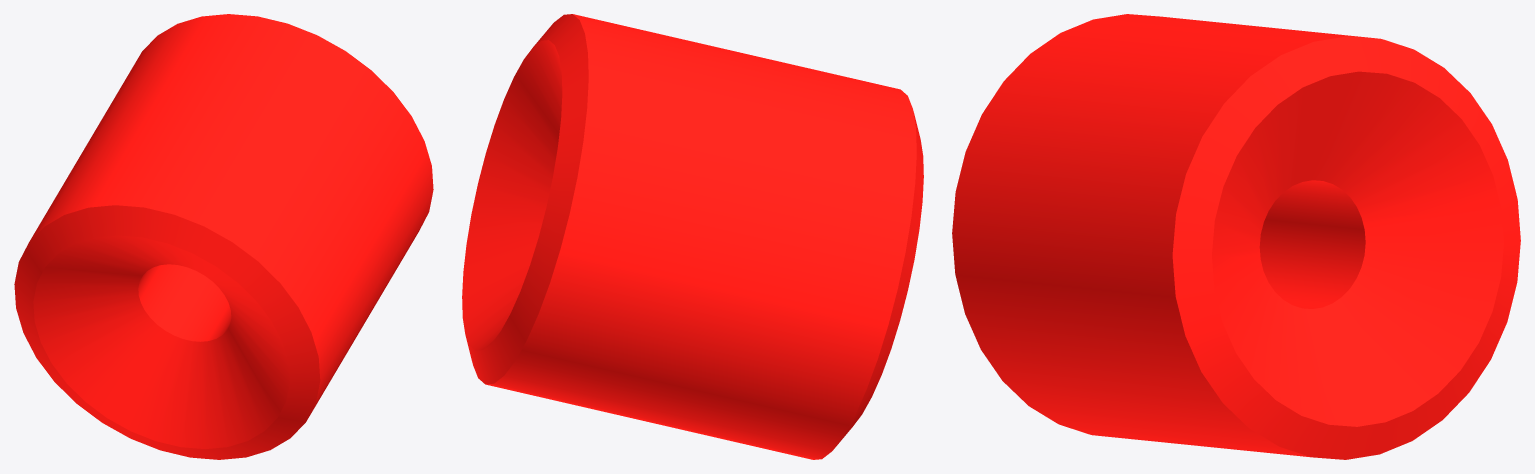
File: roue 1.fbx
3 views of the same model, side by side, from view 1: azimuth 30°, elevation 25°; view 2: azimuth 150°, elevation 25°; view 3: azimuth 270°, elevation 25° (orthographic). The views are drawn at different scales.
Parts seen in each view (by area): view 1: Roue1 Anim; view 2: Roue1 Anim; view 3: Roue1 Anim.
Boxes of the visible parts, x1,y1,x2,y2 form: Roue1 Anim: (14,14,433,459); Roue1 Anim: (462,14,923,459); Roue1 Anim: (952,14,1520,459).
Size of the model in its own units: 37.28 by 34.05 by 37.32.
